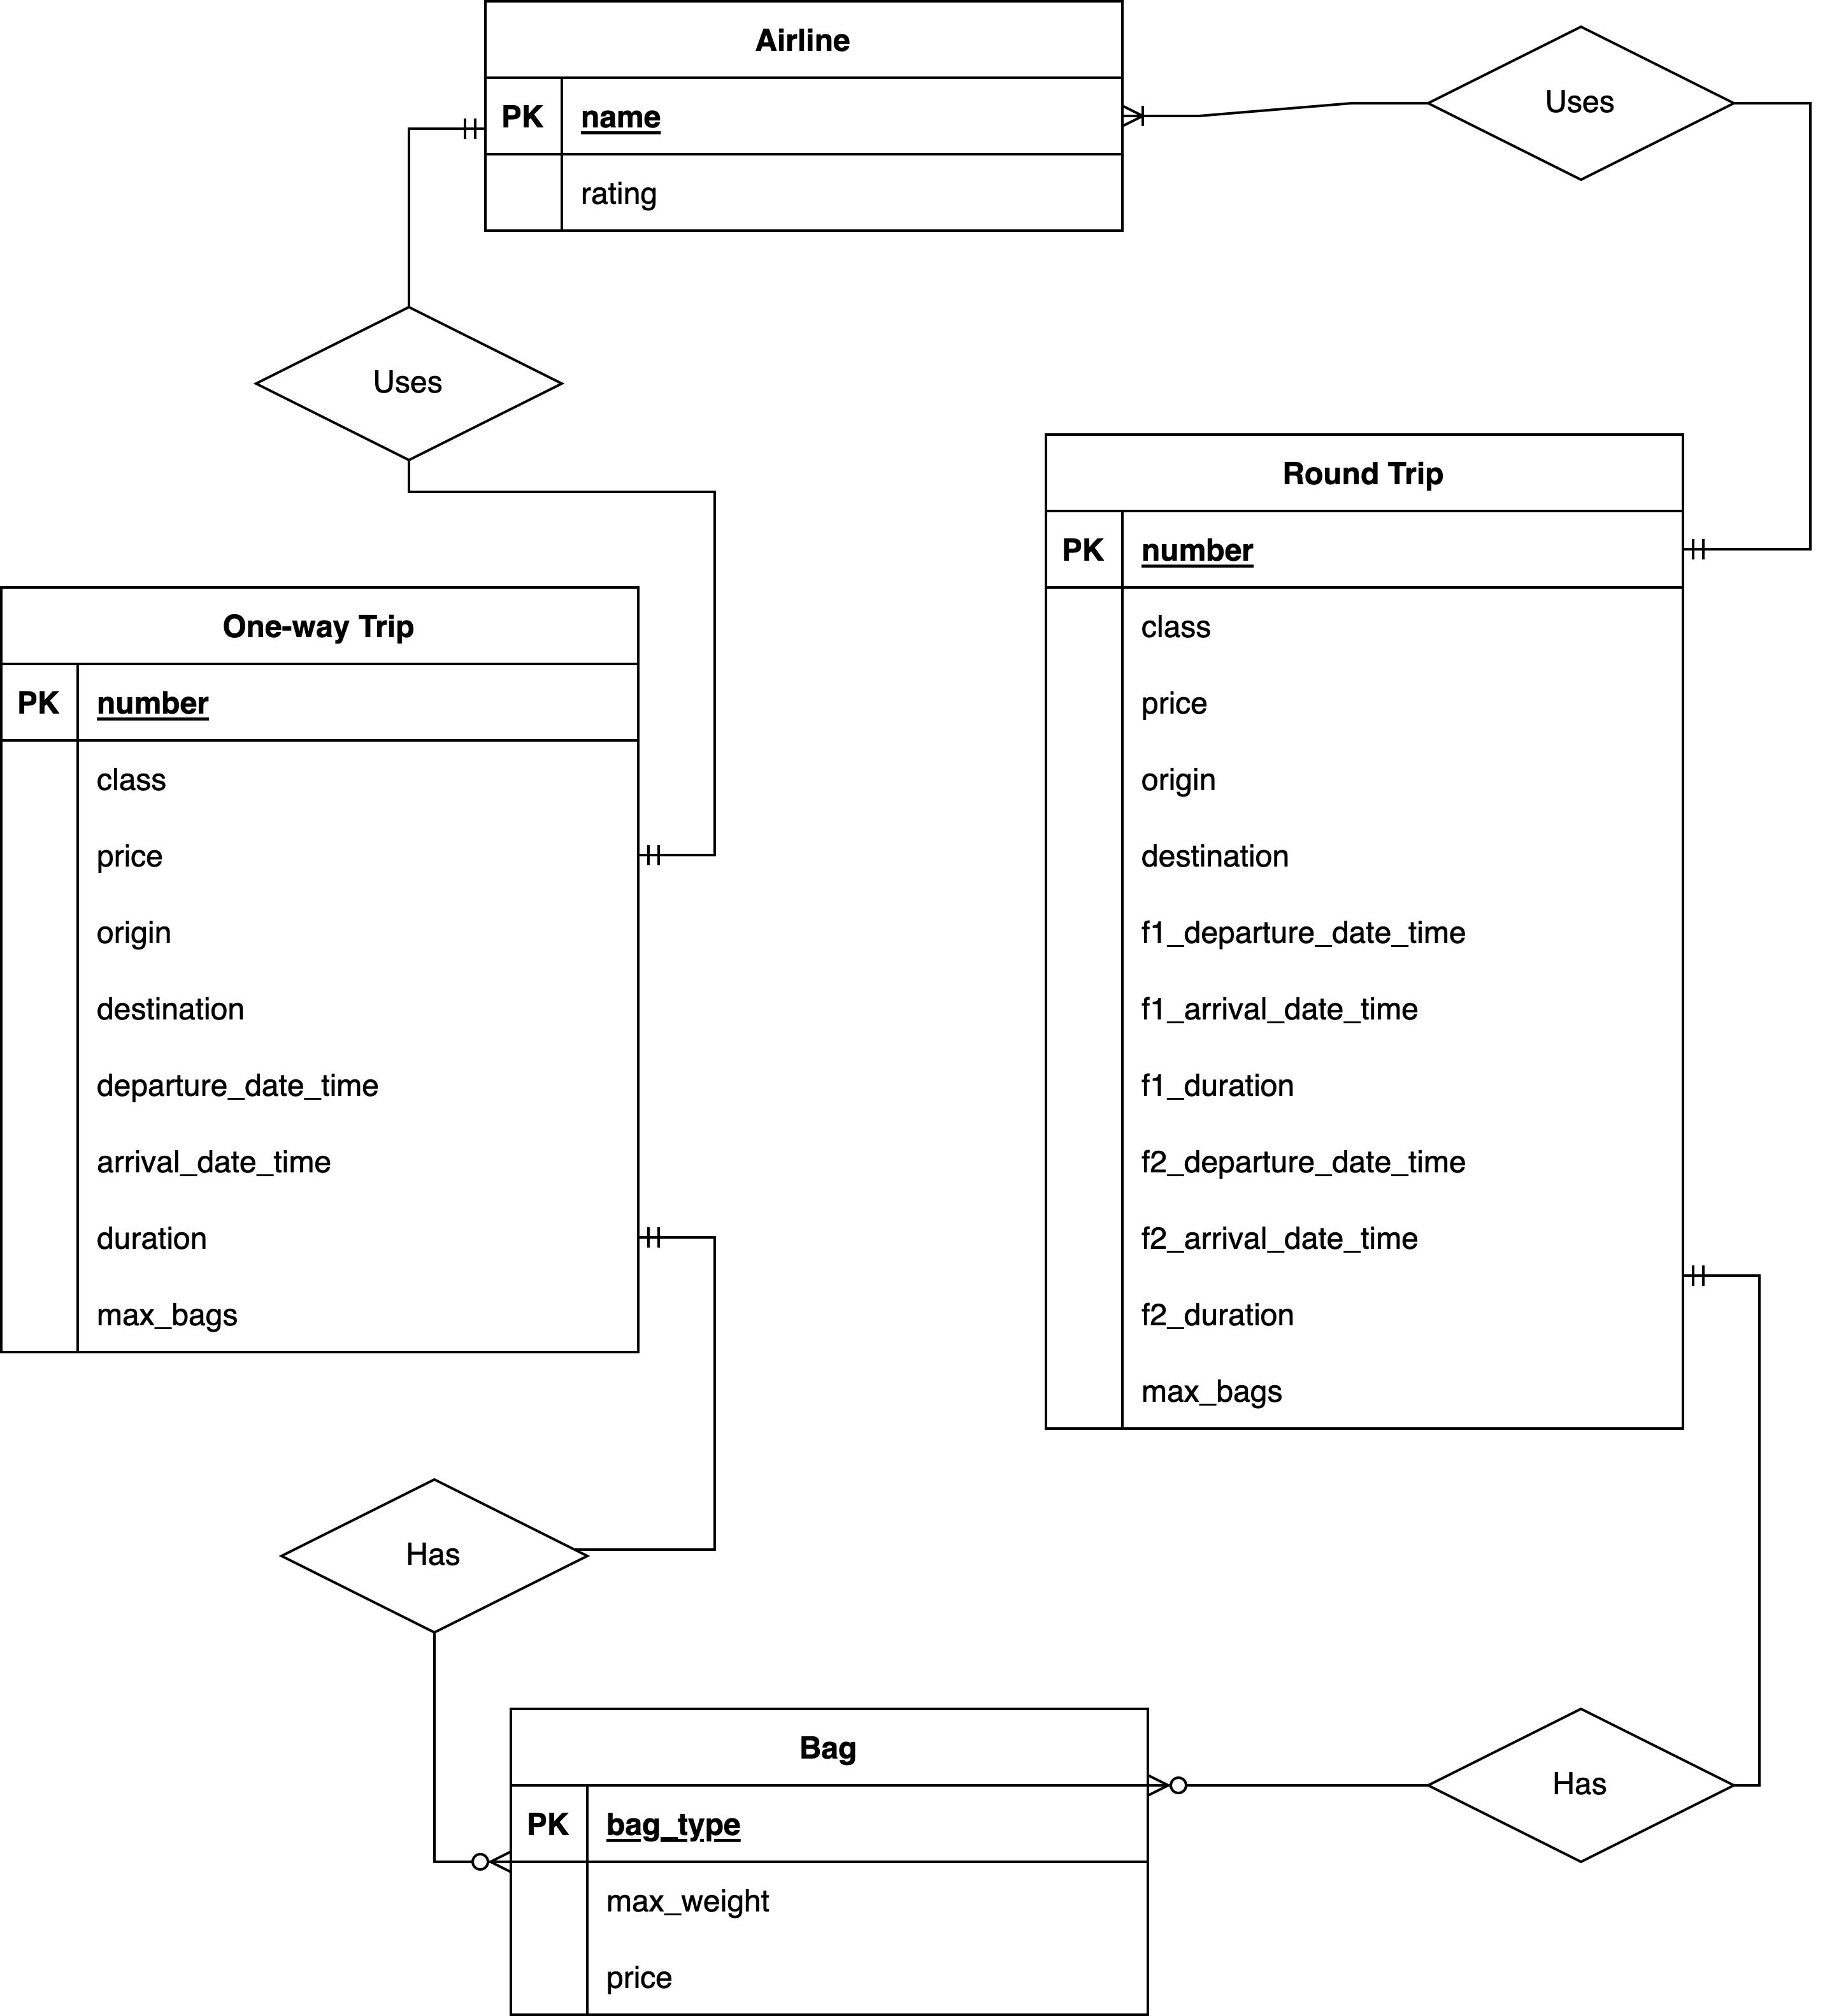entity: (1041, 430, 1693, 1445), (0, 588, 649, 1361), (495, 1700, 1155, 2016), (486, 0, 1132, 239)
relationship: (276, 1475, 591, 1640), (249, 304, 562, 469), (1434, 16, 1741, 177), (1435, 1707, 1734, 1867)
